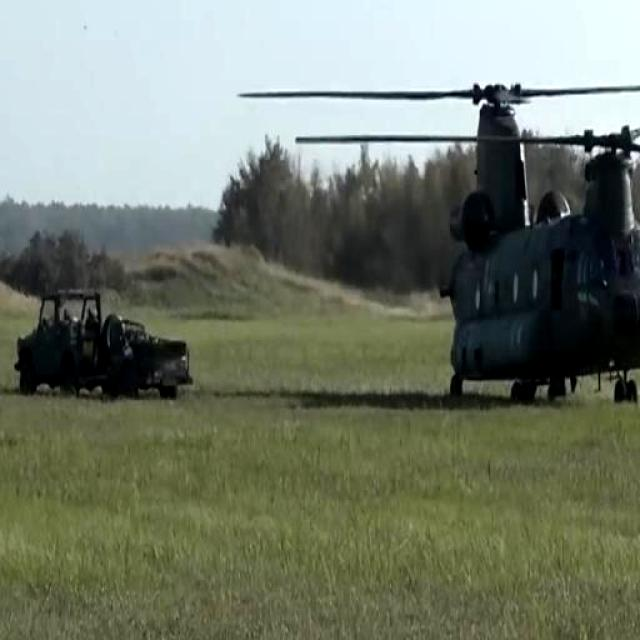drone: (279, 28, 640, 432)
